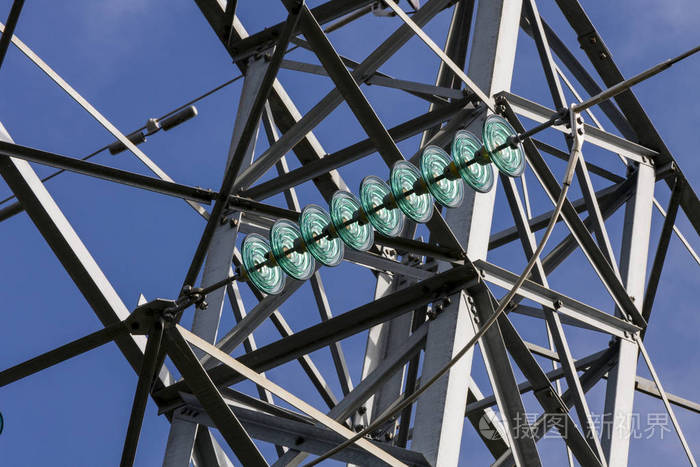insulator: (241, 116, 524, 294)
